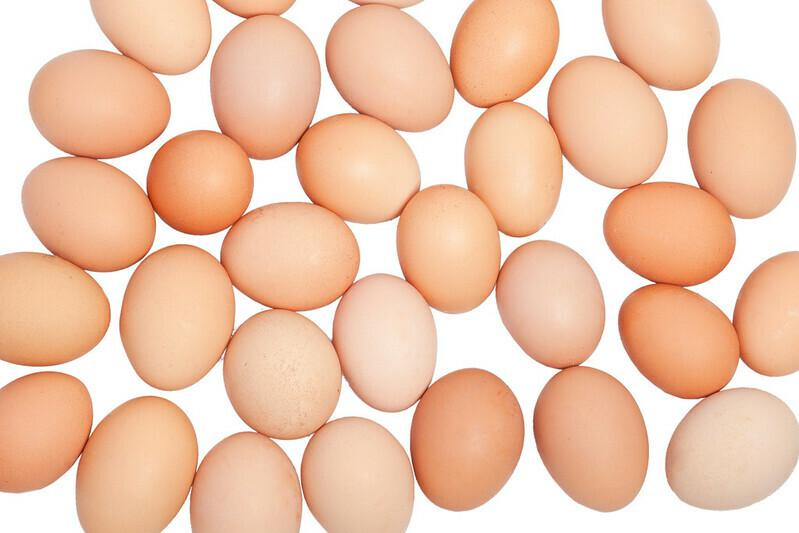egg: (116, 239, 246, 394), (320, 2, 463, 138), (214, 303, 349, 446), (529, 364, 656, 515), (406, 363, 529, 516), (212, 195, 366, 316), (543, 53, 673, 193), (16, 151, 162, 275), (661, 385, 799, 516), (26, 44, 180, 161), (207, 10, 324, 164), (613, 278, 745, 405), (387, 181, 507, 320), (685, 75, 798, 221), (77, 397, 198, 533), (331, 268, 441, 415), (291, 110, 431, 225), (461, 96, 567, 244), (494, 236, 610, 370), (602, 179, 741, 289), (300, 416, 416, 533), (0, 250, 109, 370), (142, 129, 257, 238), (452, 0, 562, 109), (187, 431, 302, 533), (0, 373, 94, 494), (601, 0, 721, 91), (87, 0, 213, 75), (733, 250, 799, 378)
